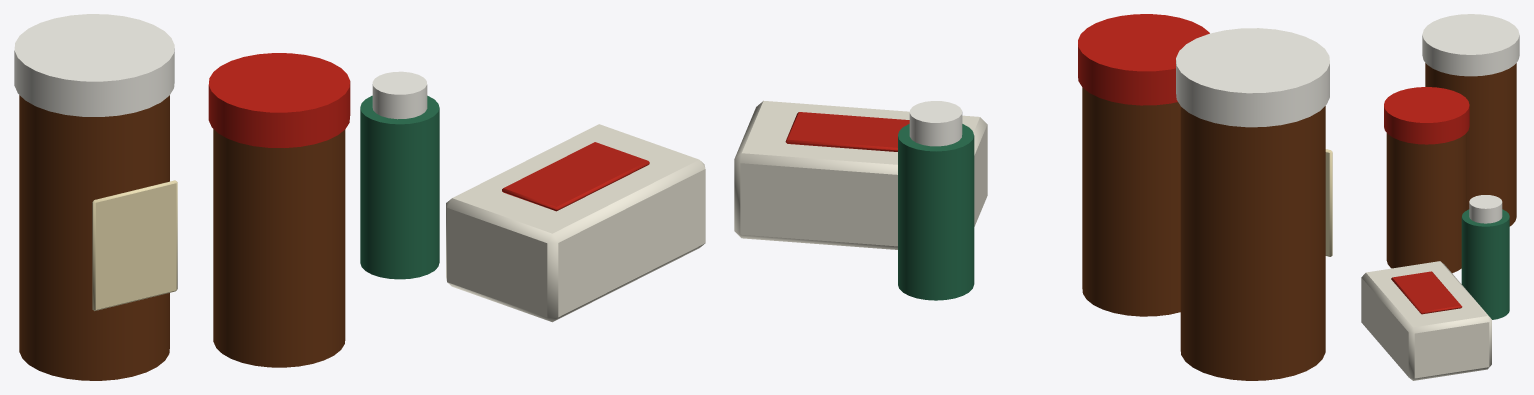
The model's file is ThuocBo_LoThuocNam.glb.
3 renders of one model, left to right at view 1: azimuth 30°, elevation 25°; view 2: azimuth 150°, elevation 25°; view 3: azimuth 270°, elevation 25°, orthographic. The views are drawn at different scales.
Parts seen in each view (by area): view 1: ThuocBo_LoThuocNam; view 2: ThuocBo_LoThuocNam; view 3: ThuocBo_LoThuocNam.
Boxes of the visible parts, x1,y1,x2,y2 form: ThuocBo_LoThuocNam: (14, 14, 705, 380); ThuocBo_LoThuocNam: (734, 14, 1332, 380); ThuocBo_LoThuocNam: (1361, 14, 1519, 380).
Bounding box in the file's own units: 0.299 × 0.136 × 0.1071.
